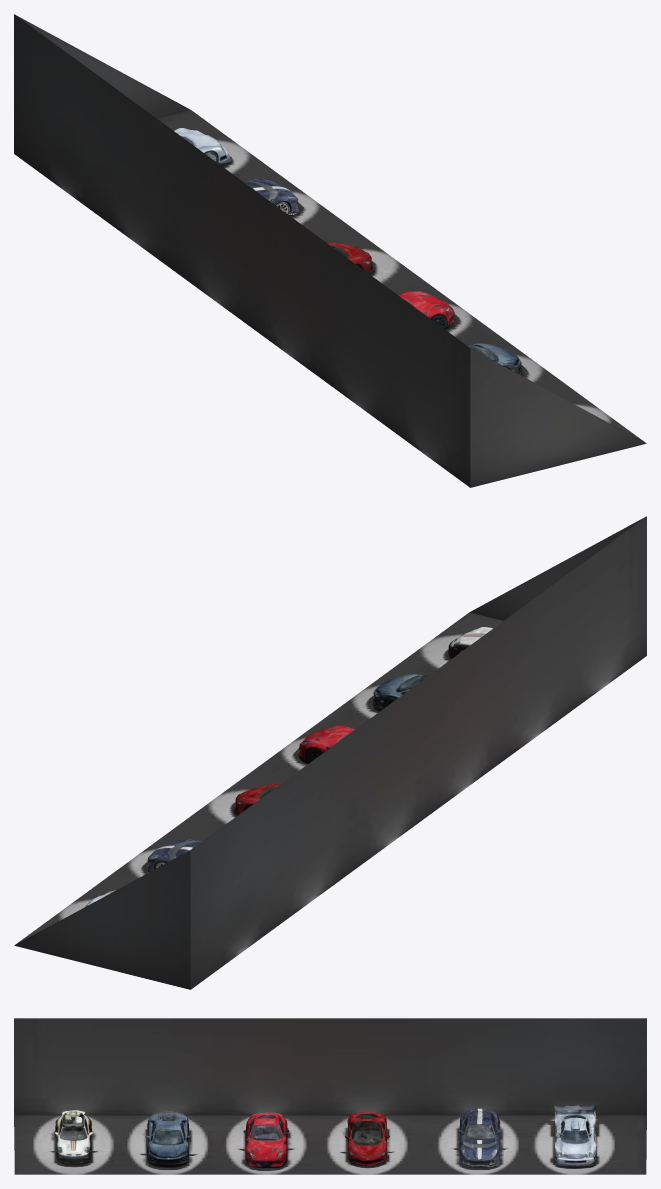
Rendered from scenebro.gltf.
3 renders of one model, top to bottom at view 1: azimuth 30°, elevation 25°; view 2: azimuth 150°, elevation 25°; view 3: azimuth 270°, elevation 25°, orthographic. The views are drawn at different scales.
Parts seen in each view (by area): view 1: Cube_1, 3DModel001_1, garageglb, 3DModel002_1, 3DModel_1; view 2: Cube_1, 3DModel001_1, 3DModel_1, garageglb; view 3: Cube_1, 3DModel002_1, garageglb, 3DModel_1, 3DModel001_1, SF90_2_1, Dakar_1.
Part boxes in pixels (x1,y1,x2,y2): Cube_1: [14, 14, 646, 487]; 3DModel001_1: [398, 291, 454, 329]; garageglb: [243, 178, 299, 214]; 3DModel002_1: [174, 128, 231, 165]; 3DModel_1: [465, 343, 522, 375]; Cube_1: [14, 516, 646, 989]; 3DModel001_1: [298, 725, 355, 763]; 3DModel_1: [372, 674, 429, 711]; garageglb: [147, 838, 201, 873]; Cube_1: [14, 1018, 646, 1174]; 3DModel002_1: [553, 1105, 596, 1167]; garageglb: [457, 1108, 501, 1167]; 3DModel_1: [145, 1111, 191, 1167]; 3DModel001_1: [243, 1112, 289, 1167]; SF90_2_1: [344, 1112, 389, 1165]; Dakar_1: [55, 1110, 92, 1164].
Size of the model in its own units: 6.99 by 5.44 by 31.17.
12 materials, 7 textured.
